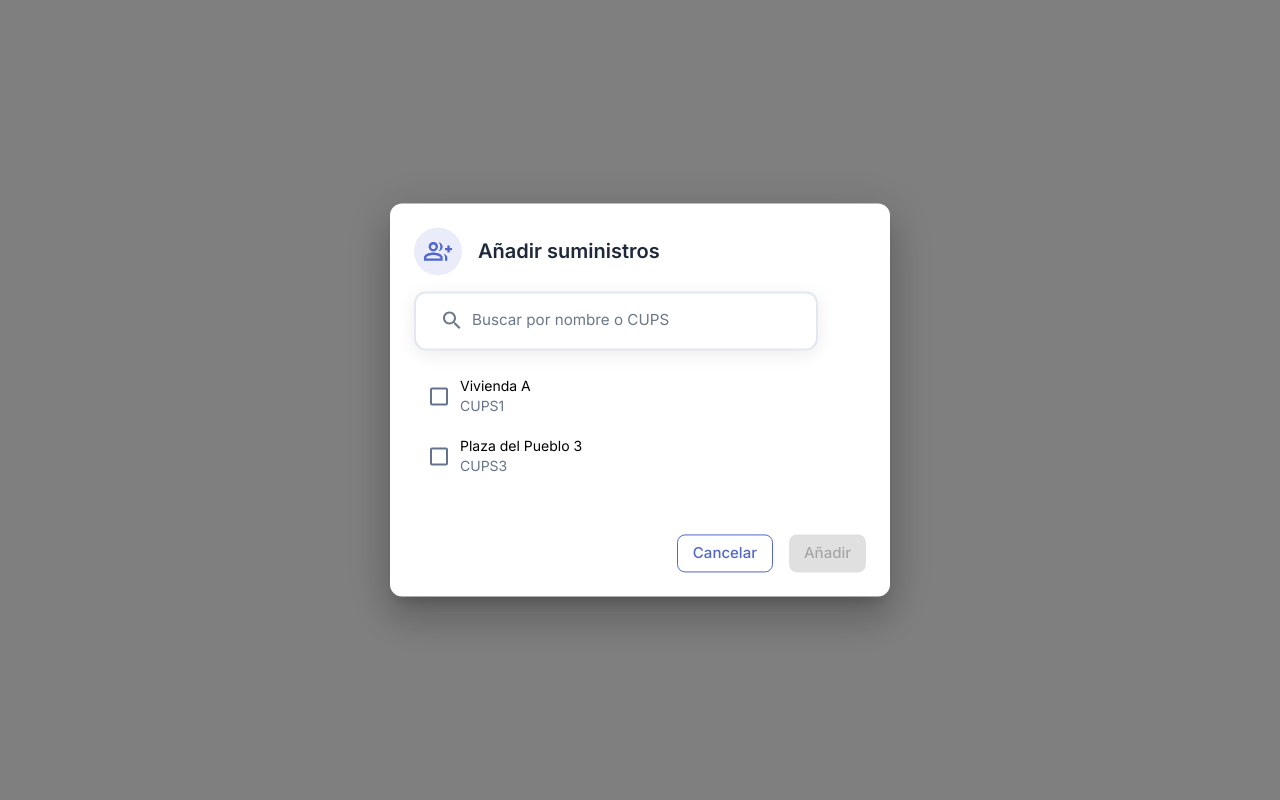
AddSupplyDialog › UI-SUP-010 lists a supply without a name by its address, and finds it by that address
Expected: the text "Plaza del Pueblo 3" is shown, [460,437,582,454]
Type "plaza" into the search field with placeholder "Buscar por nombre o CUPS".
click(636, 321); type("plaza")  # box [472,305,800,336]
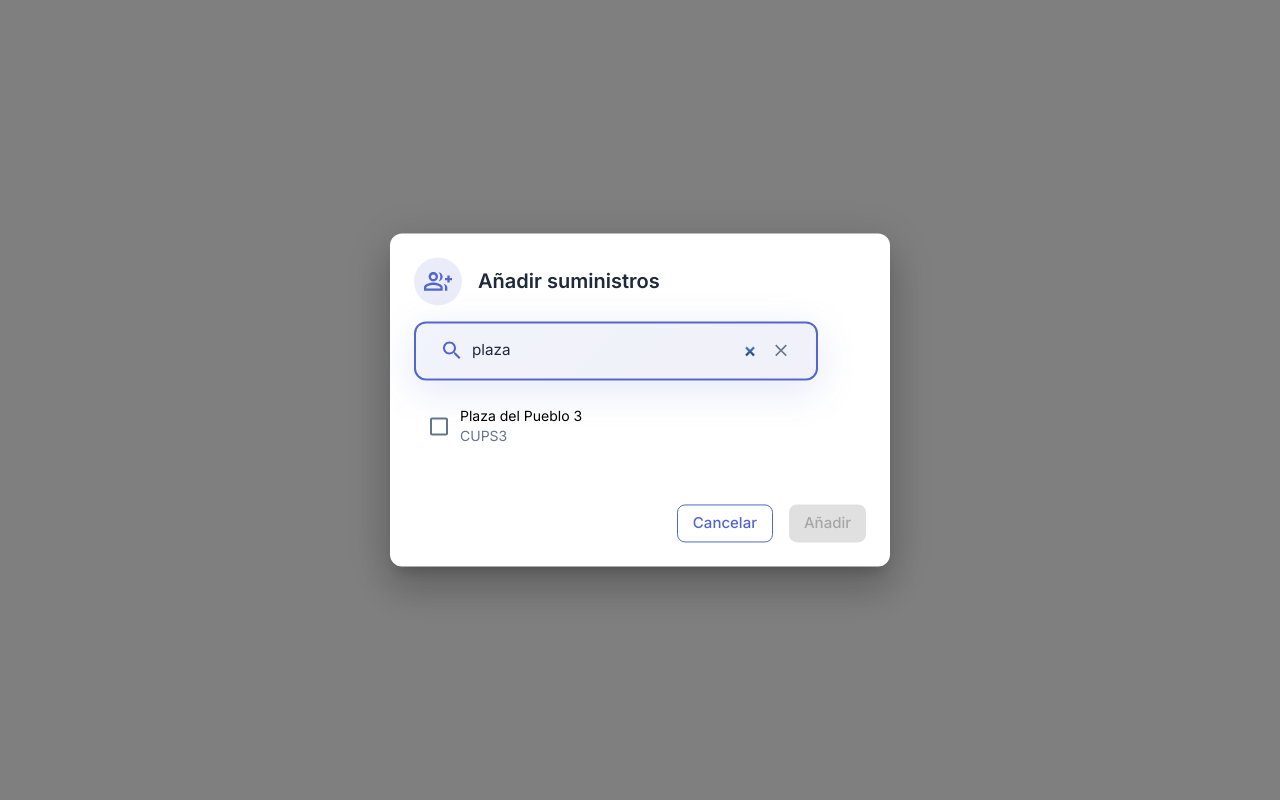
Expected: the text "Plaza del Pueblo 3" is shown, [460,407,582,424]
Now the button "Vivienda A" is gone
